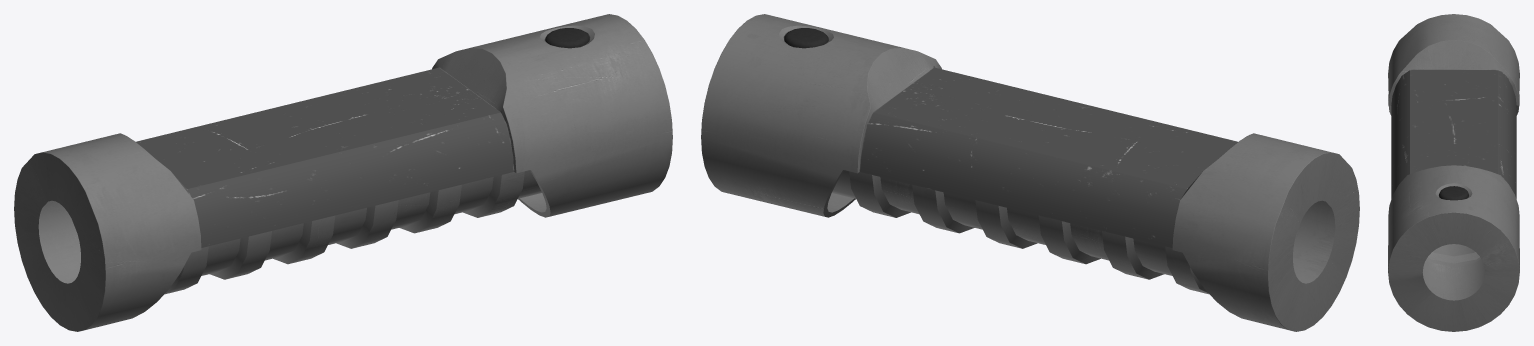
The model's file is grip_17_r_a.glb.
The picture shows the model from 3 angles, left to right: view 1: azimuth 30°, elevation 25°; view 2: azimuth 150°, elevation 25°; view 3: azimuth 270°, elevation 25°; orthographic projection. The views are drawn at different scales.
Visible parts, largest first — view 1: grip_17_r_a_lod0; view 2: grip_17_r_a_lod0; view 3: grip_17_r_a_lod0.
Boxes of the visible parts, x1,y1,x2,y2 form: grip_17_r_a_lod0: [14, 14, 672, 331]; grip_17_r_a_lod0: [701, 14, 1359, 331]; grip_17_r_a_lod0: [1388, 14, 1519, 331].
Size of what is drawn, in the model's own units: 0.1045 by 0.0293 by 0.0293.
1 material, 1 textured.
